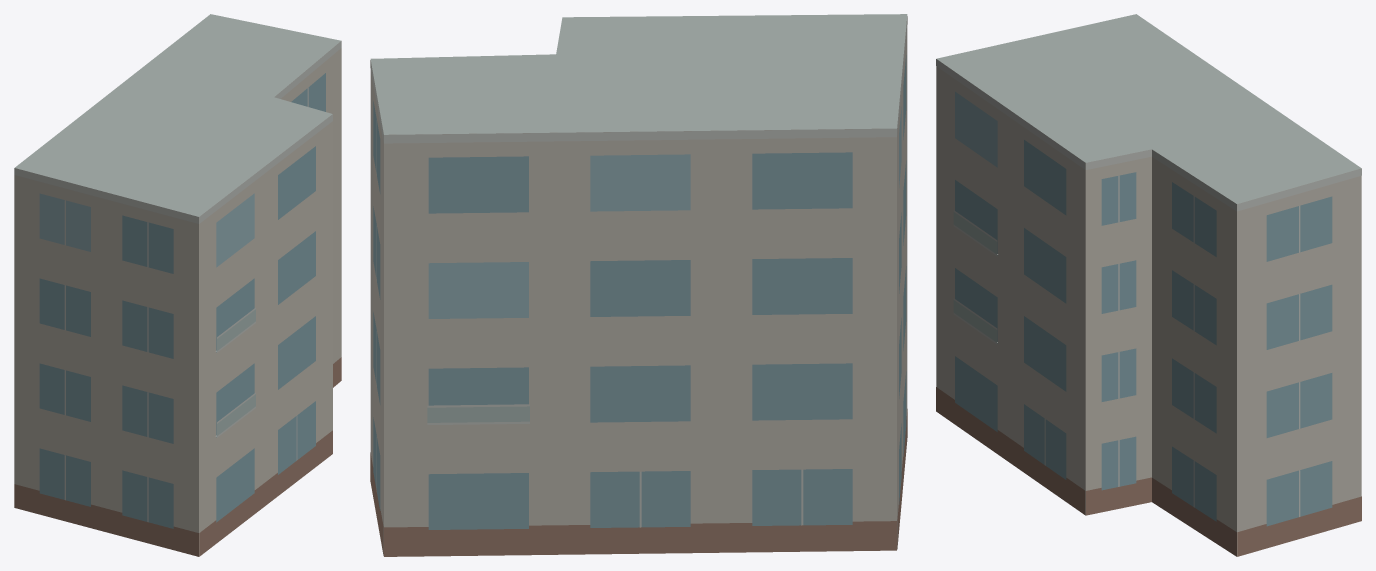
The model's file is survey-upis-32750933.glb.
The picture shows the model from 3 angles, left to right: view 1: azimuth 30°, elevation 25°; view 2: azimuth 150°, elevation 25°; view 3: azimuth 270°, elevation 25°; orthographic projection. The views are drawn at different scales.
Visible parts, largest first — view 1: survey-upis-32750933.tmp; view 2: survey-upis-32750933.tmp; view 3: survey-upis-32750933.tmp.
Boxes of the visible parts, x1=… form: survey-upis-32750933.tmp: x1=14, y1=14, x2=341, y2=556; survey-upis-32750933.tmp: x1=370, y1=14, x2=907, y2=556; survey-upis-32750933.tmp: x1=936, y1=14, x2=1361, y2=556.
Bounding box in the file's own units: 13.6 × 11.75 × 12.86.
